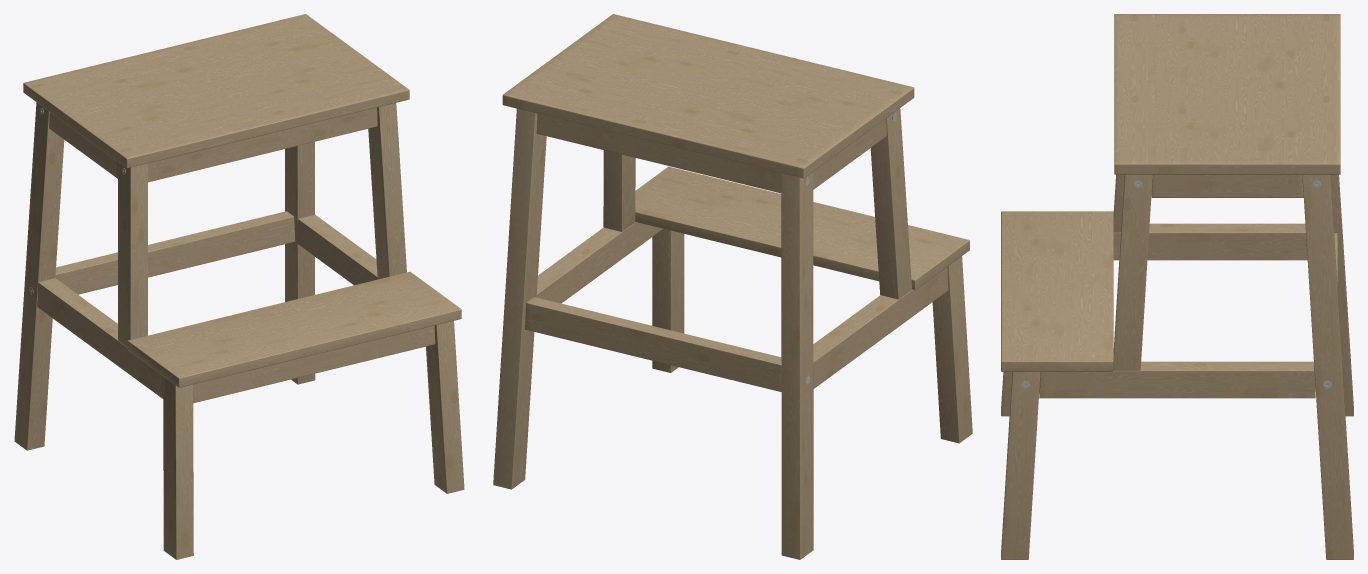
File: pall.glb
3 renders of one model, left to right at view 1: azimuth 30°, elevation 25°; view 2: azimuth 150°, elevation 25°; view 3: azimuth 270°, elevation 25°, orthographic. The views are drawn at different scales.
Parts seen in each view (by area): view 1: Wood 1, Plank 1, Plank 2, Wood 4, Wood 2, Wood 3, Wood 5; view 2: Wood 1, Plank 1, Plank 2, Wood 2, Wood 4, Wood 3, Wood 5; view 3: Plank 1, Wood 1, Plank 2, Wood 2, Wood 5.
Part boxes in pixels (<box>): Wood 1: <box>14,102,464,559</box>; Plank 1: <box>23,14,409,168</box>; Plank 2: <box>127,271,461,387</box>; Wood 4: <box>55,211,435,403</box>; Wood 2: <box>37,214,379,398</box>; Wood 3: <box>148,107,377,182</box>; Wood 5: <box>49,112,117,178</box>; Wood 1: <box>493,108,972,559</box>; Plank 1: <box>502,14,914,178</box>; Plank 2: <box>635,166,969,289</box>; Wood 2: <box>536,222,948,388</box>; Wood 4: <box>525,297,781,391</box>; Wood 3: <box>536,113,781,193</box>; Wood 5: <box>813,118,886,189</box>; Plank 1: <box>1114,14,1340,174</box>; Wood 1: <box>1001,174,1353,559</box>; Plank 2: <box>1001,211,1113,371</box>; Wood 2: <box>1039,223,1315,398</box>; Wood 5: <box>1151,174,1303,197</box>.
Bounding box in the file's own units: 0.4159 × 0.5 × 0.405.
Materials: 2 (2 with a texture image).
